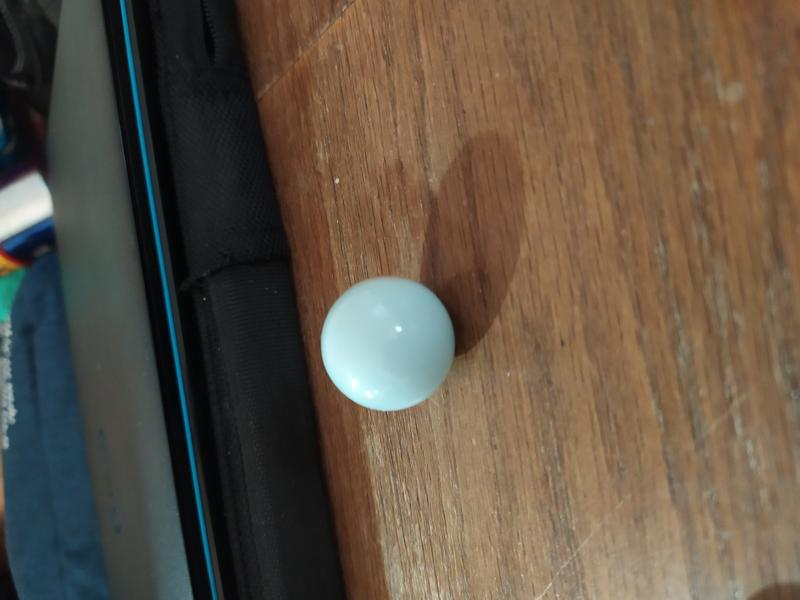Warning: (317, 271, 459, 416)
